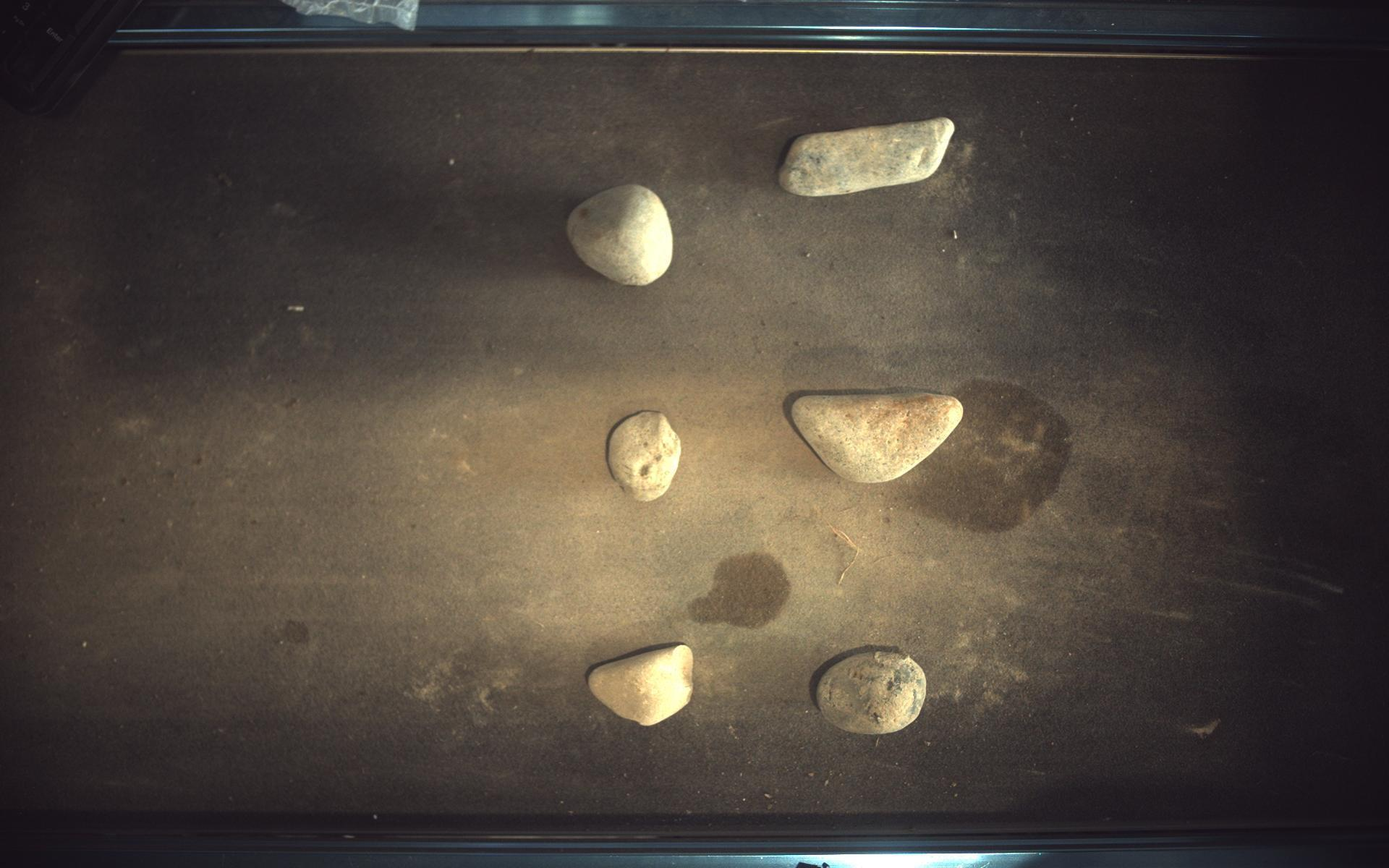stone: (793, 393, 965, 483), (780, 116, 956, 196), (567, 183, 674, 285), (818, 652, 928, 736), (590, 644, 694, 727), (608, 411, 682, 502)
